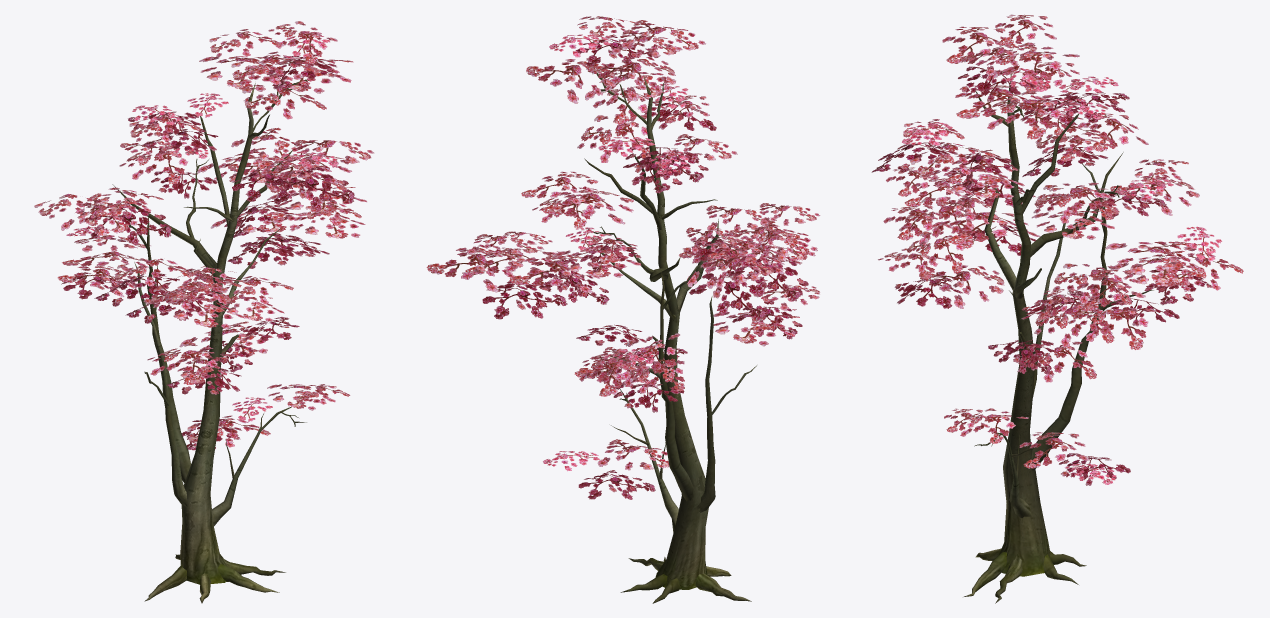
File: S_Tree_Red039.FBX
3 renders of one model, left to right at view 1: azimuth 30°, elevation 25°; view 2: azimuth 150°, elevation 25°; view 3: azimuth 270°, elevation 25°, orthographic. The views are drawn at different scales.
Visible parts, largest first — view 1: S_Tree_Red039; view 2: S_Tree_Red039; view 3: S_Tree_Red039.
Boxes of the visible parts, x1,y1,x2,y2 form: S_Tree_Red039: [34, 21, 374, 603]; S_Tree_Red039: [426, 16, 820, 603]; S_Tree_Red039: [871, 14, 1243, 603].
Bounding box in the file's own units: 222 × 327 × 202.
